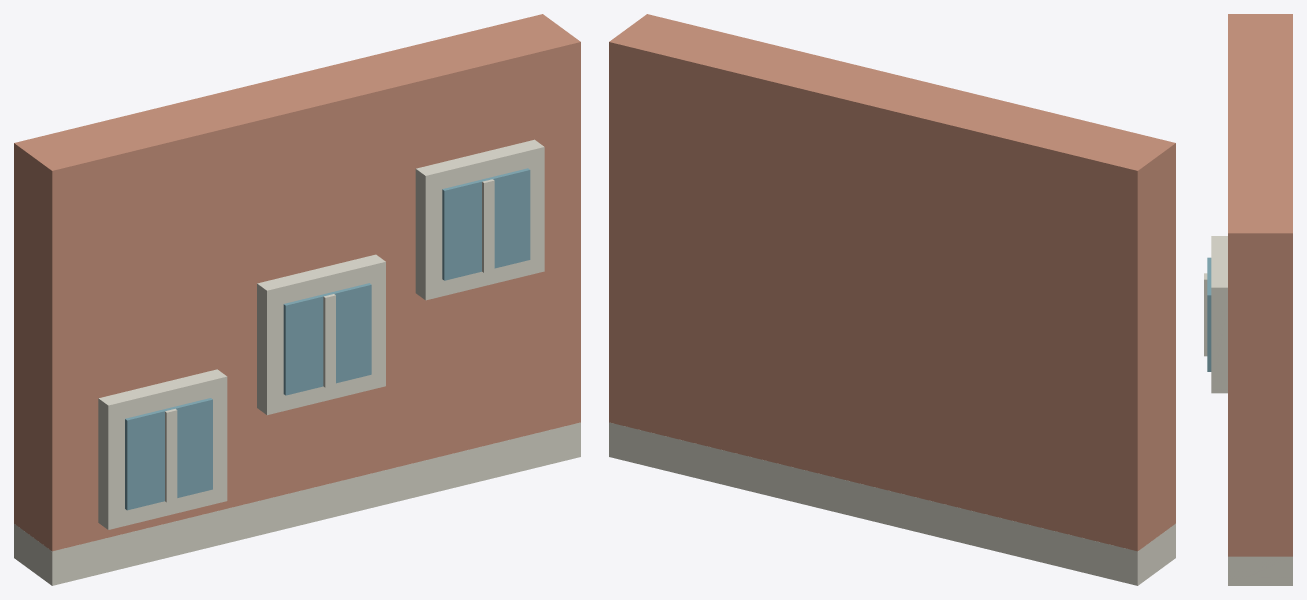
The model's file is voxel-city-districts-stair-window-bay-efefa001__24809.glb.
The picture shows the model from 3 angles, left to right: view 1: azimuth 30°, elevation 25°; view 2: azimuth 150°, elevation 25°; view 3: azimuth 270°, elevation 25°; orthographic projection. The views are drawn at different scales.
Parts seen in each view (by area): view 1: stair-window-bay-brick, stair-window-bay-concrete, stair-window-bay-glass; view 2: stair-window-bay-brick, stair-window-bay-concrete; view 3: stair-window-bay-brick, stair-window-bay-concrete, stair-window-bay-glass.
Part boxes in pixels (left/top/right/bottom): stair-window-bay-brick: left=14, top=14, right=580, bottom=551; stair-window-bay-concrete: left=14, top=139, right=580, bottom=585; stair-window-bay-glass: left=125, top=168, right=530, bottom=510; stair-window-bay-brick: left=609, top=14, right=1175, bottom=551; stair-window-bay-concrete: left=609, top=422, right=1175, bottom=585; stair-window-bay-brick: left=1228, top=14, right=1292, bottom=556; stair-window-bay-concrete: left=1204, top=236, right=1292, bottom=585; stair-window-bay-glass: left=1207, top=257, right=1211, bottom=371.
Size of the model in its own units: 4 by 3 by 0.6851.
